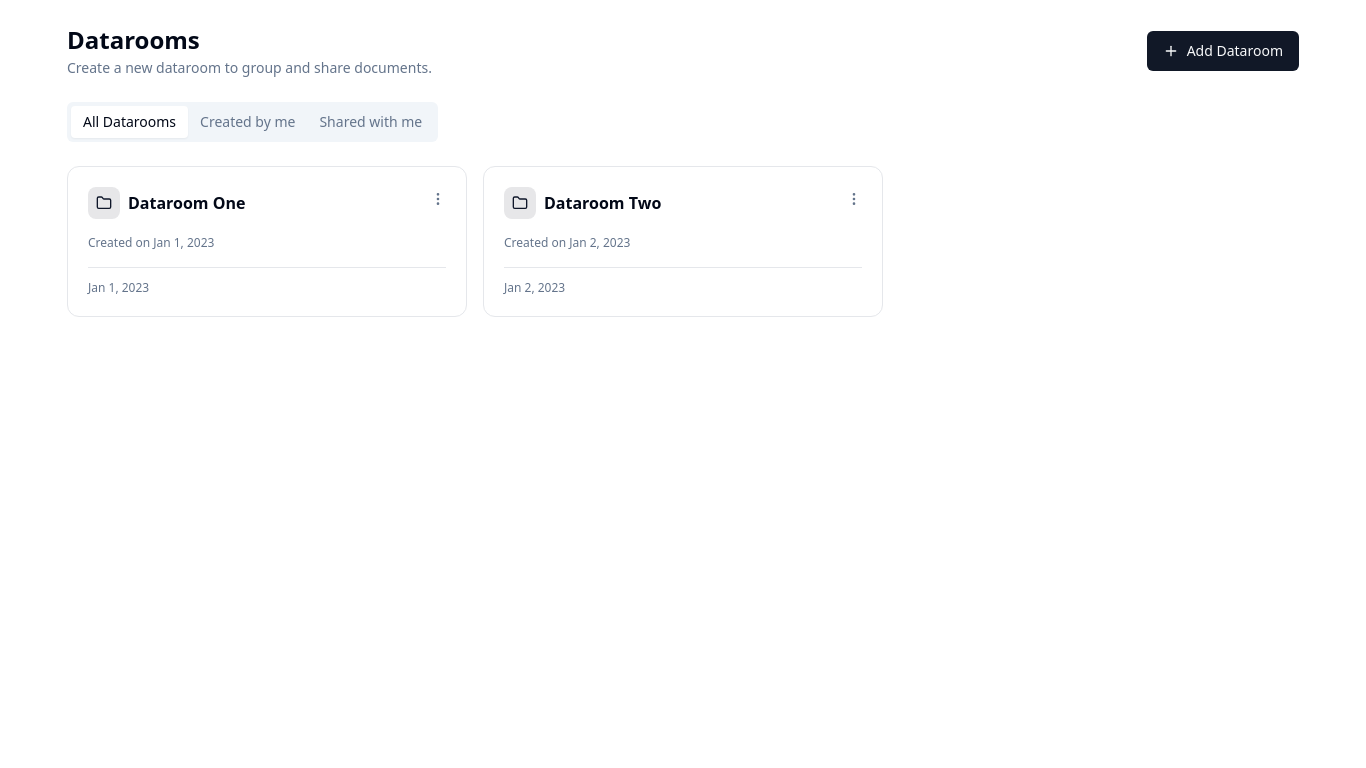
DataroomsPage › Dataroom Actions › should delete a dataroom and refresh the list
Click the 1st button named "Actions" at (438,199), box [422,183,454,215]
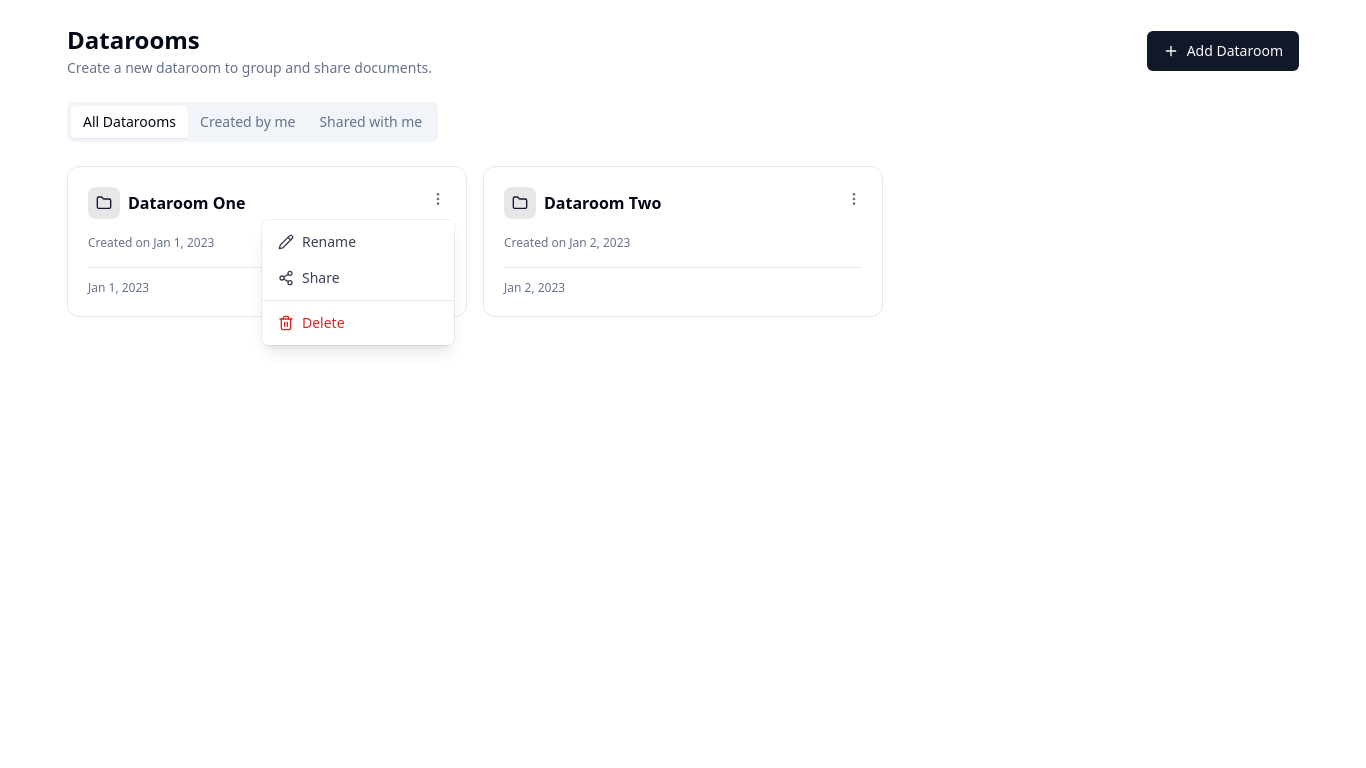
Click the menu item "Delete" at (311,322), box [278,313,345,332]
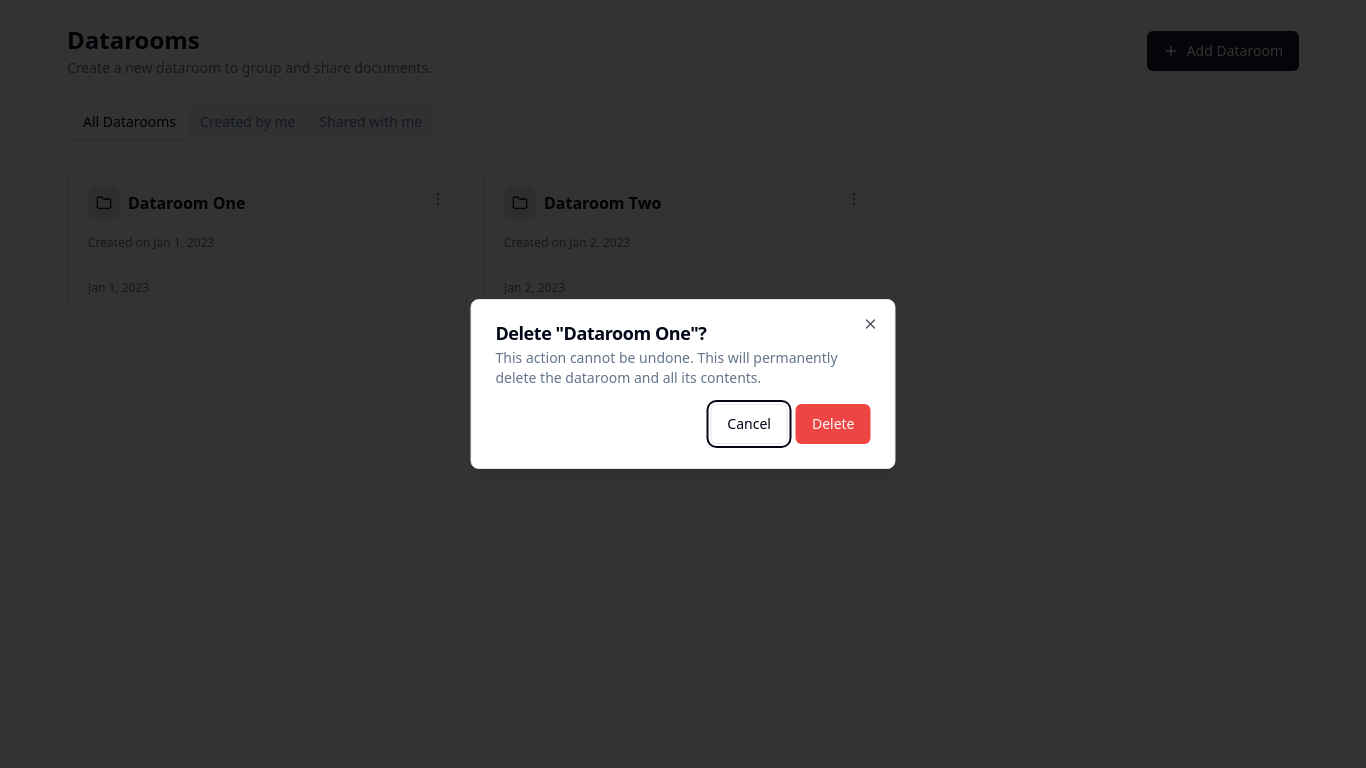
Expected: the heading "Delete \"Dataroom One\"?" is shown, [496,321,706,345]
Click the button "Delete" at (833,424), box [796,404,870,444]
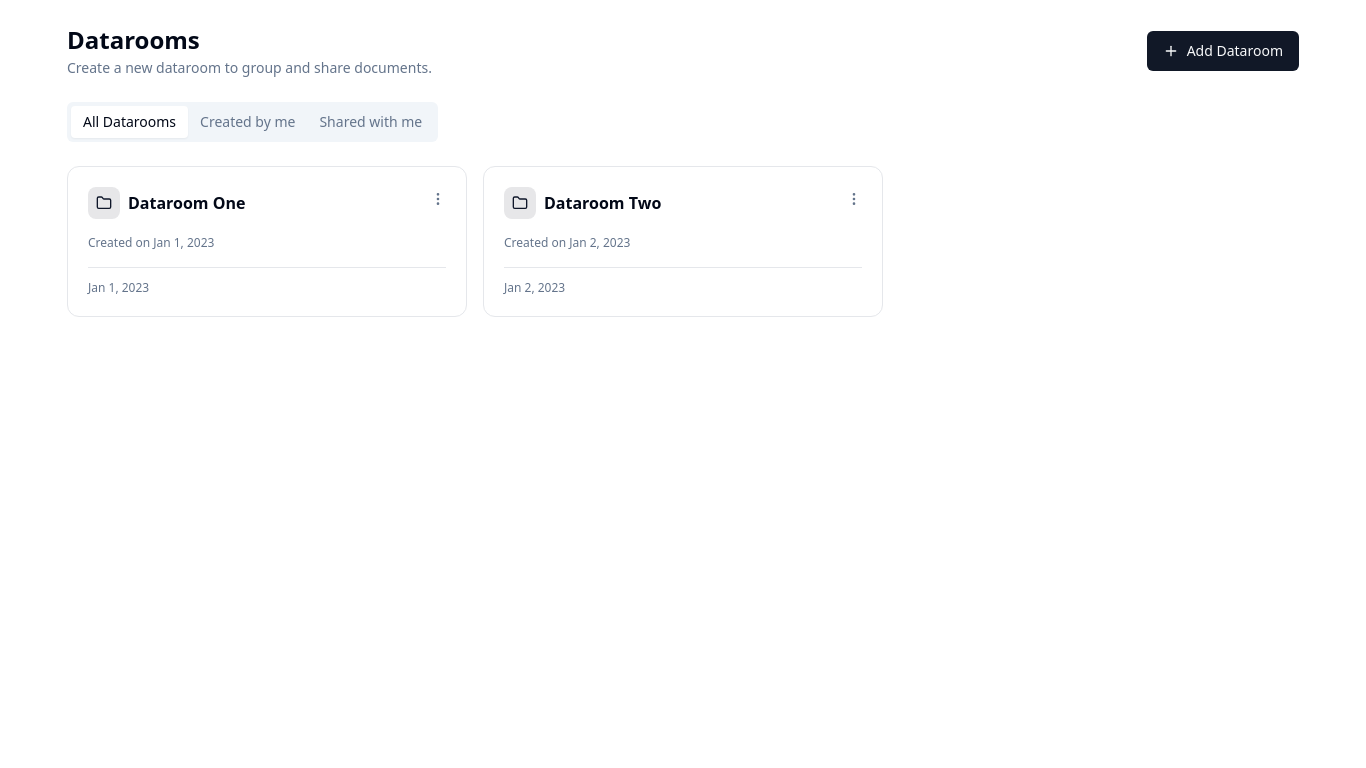
Expected: the heading "Delete \"Dataroom One\"?" is gone
